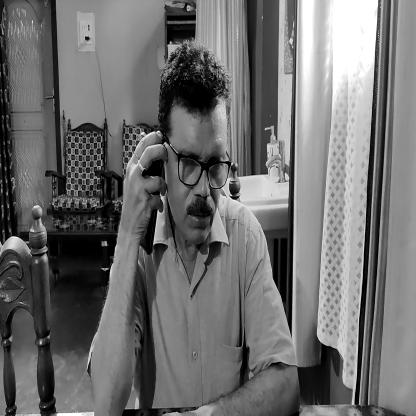Distracted: (156, 30, 229, 252)
